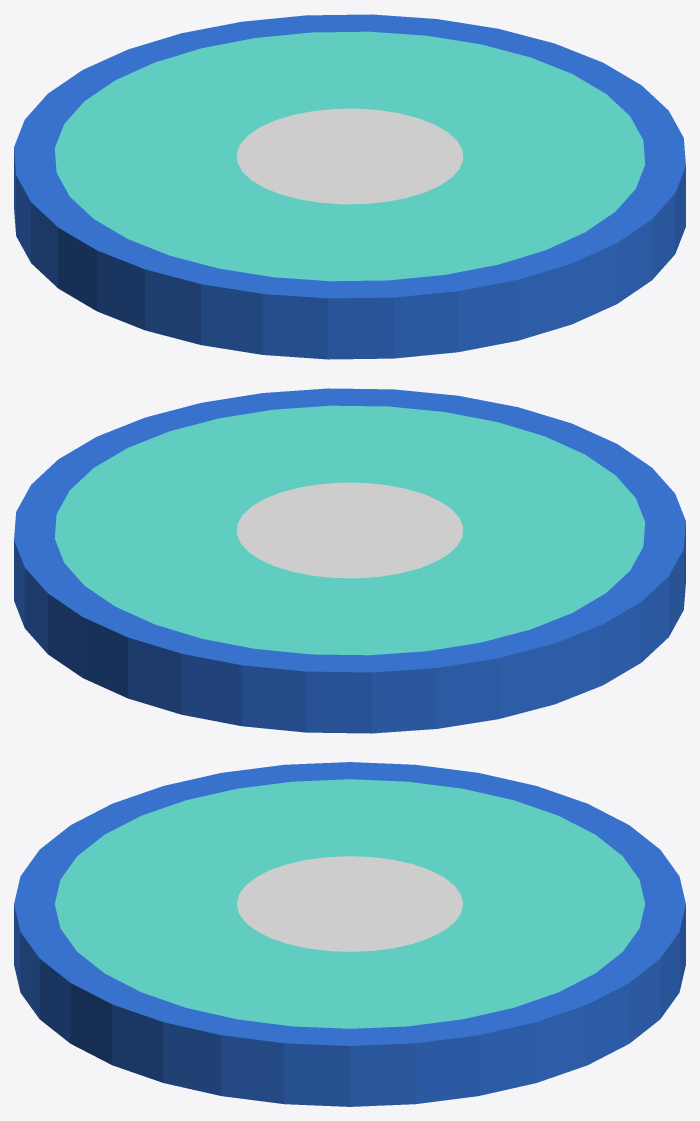
The model's file is LastPlane.fbx.
3 renders of one model, top to bottom at view 1: azimuth 30°, elevation 25°; view 2: azimuth 150°, elevation 25°; view 3: azimuth 270°, elevation 25°, orthographic.
Visible parts, largest first — view 1: Circle; view 2: Circle; view 3: Circle.
Boxes of the visible parts, x1=… form: Circle: x1=14, y1=14, x2=685, y2=359; Circle: x1=14, y1=388, x2=685, y2=733; Circle: x1=14, y1=762, x2=685, y2=1106.
Bounding box in the file's own units: 200 × 20 × 200.
